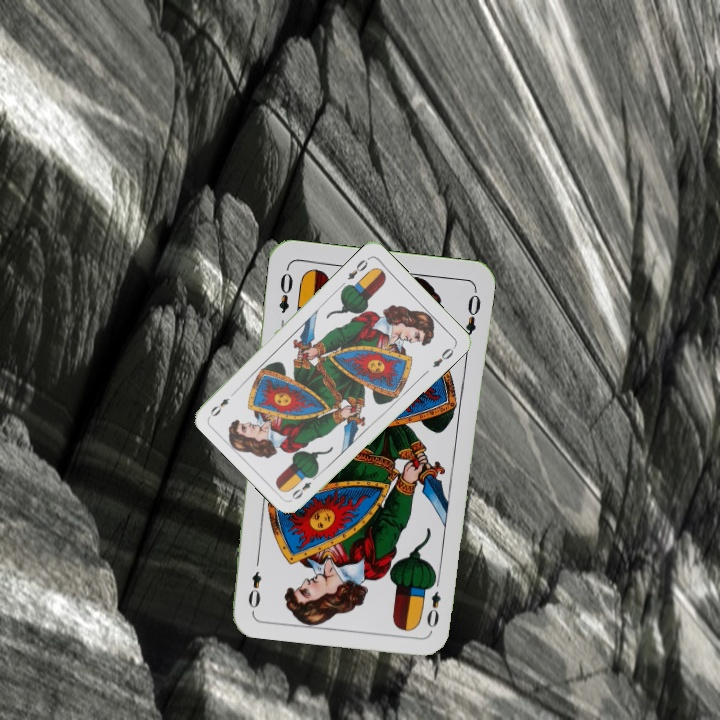EO: (422, 573, 443, 631), (288, 470, 321, 502), (274, 269, 296, 316), (343, 253, 372, 283)
